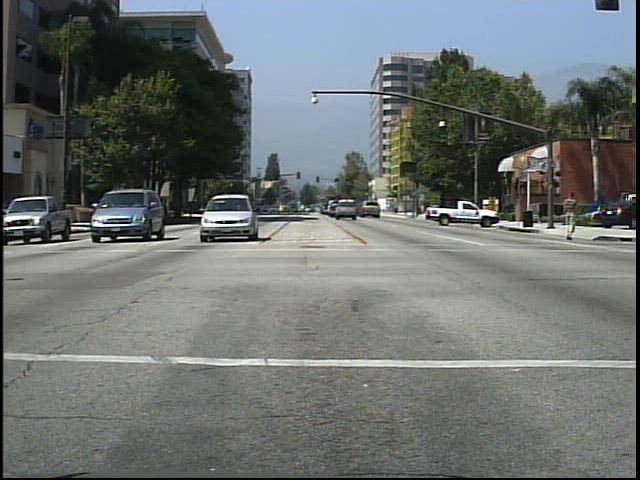person: (560, 190, 582, 242)
